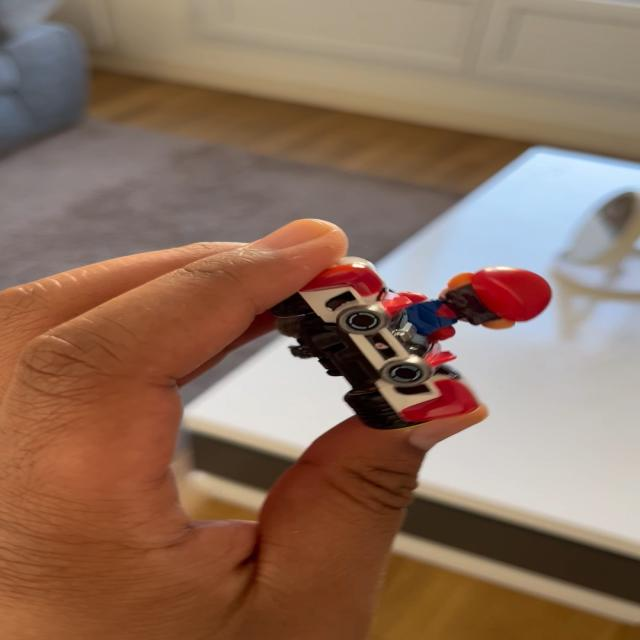mario: (270, 243, 572, 444)
